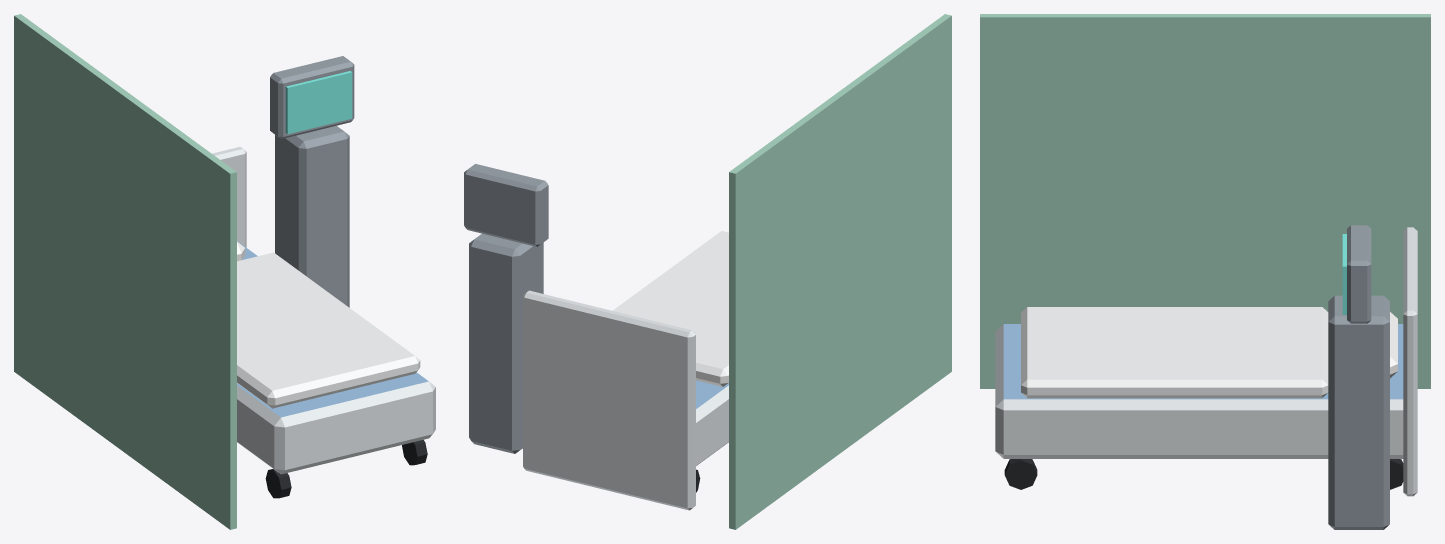
The model's file is bay.fbx.
3 renders of one model, left to right at view 1: azimuth 30°, elevation 25°; view 2: azimuth 150°, elevation 25°; view 3: azimuth 270°, elevation 25°, orthographic. The views are drawn at different scales.
Visible parts, largest first — view 1: bay; view 2: bay; view 3: bay.
Boxes of the visible parts, x1,y1,x2,y2 form: bay: (14,14,435,529); bay: (464,14,951,529); bay: (980,14,1430,529).
Bounding box in the file's own units: 1.77 × 2 × 2.2.
